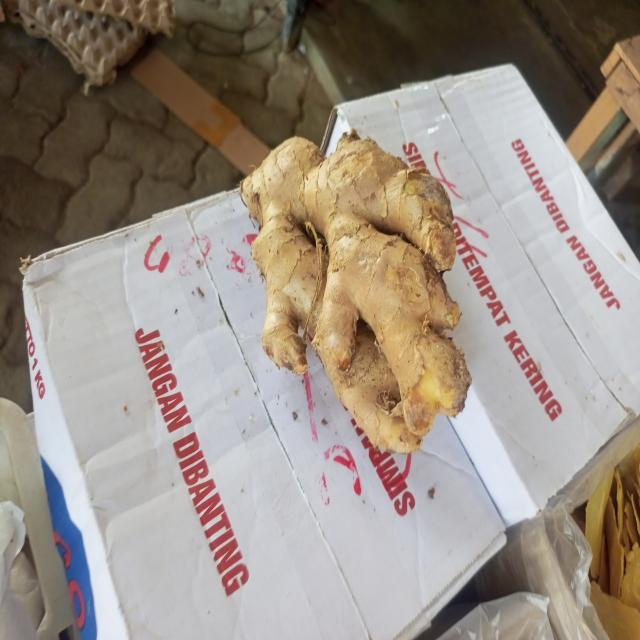ginger: (246, 139, 467, 450)
